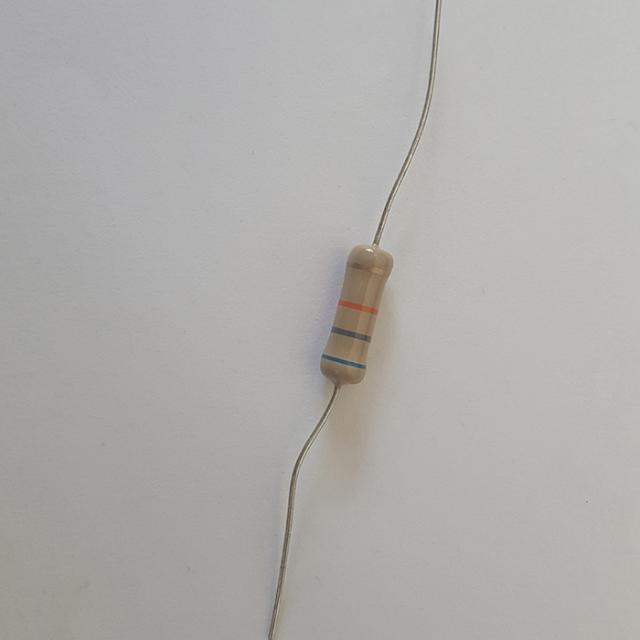blue: (321, 354, 366, 368)
gold: (348, 261, 387, 272)
grey: (331, 325, 369, 341)
orange: (339, 299, 377, 312)
resistor: (296, 227, 410, 395)
